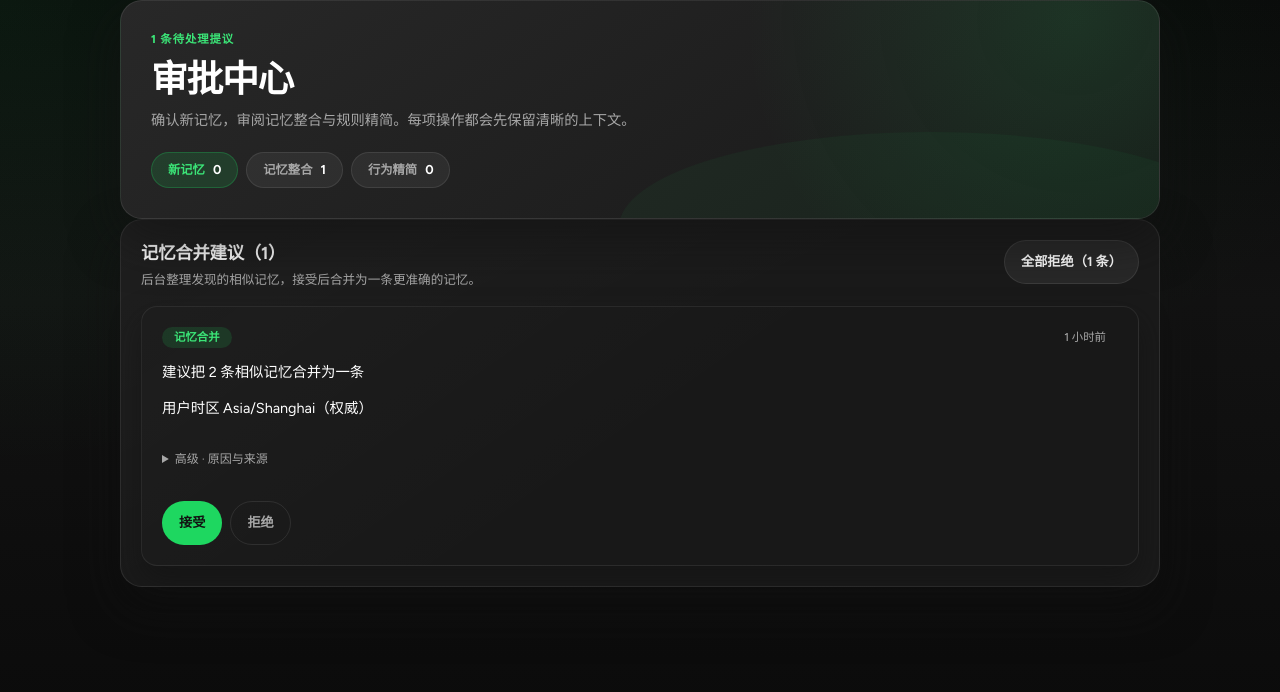
Test case: ApprovalCenterPage › consolidation 折叠区展示来源记忆预览
Check: the text "建议把 2 条相似记忆合并为一条" is shown, box top-left (162, 363), bottom-right (364, 381)
Step 1. Click the heading "高级 · 原因与来源" → point(221, 459), box top-left (175, 452), bottom-right (268, 466)
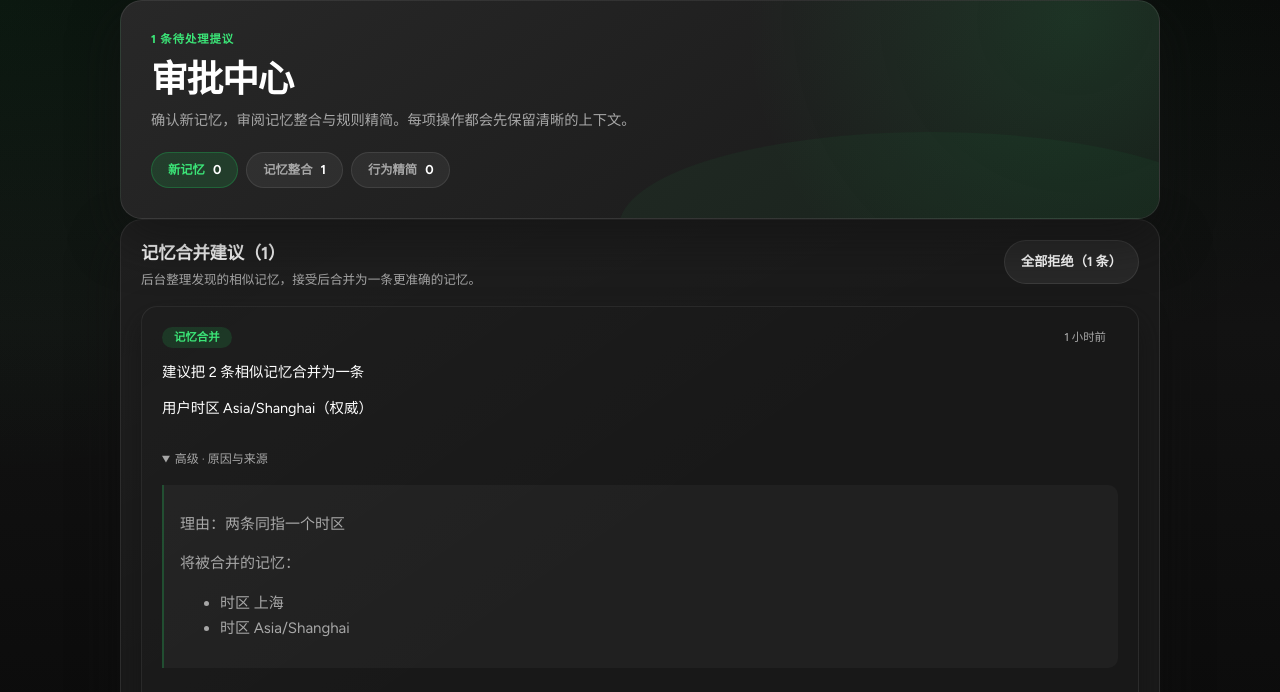
Check: the text "将被合并的记忆：" is shown, box top-left (180, 554), bottom-right (300, 572)
Check: the list item "时区 上海" is shown, box top-left (220, 594), bottom-right (284, 612)
Check: the list item "时区 Asia/Shanghai" is shown, box top-left (220, 619), bottom-right (350, 637)
